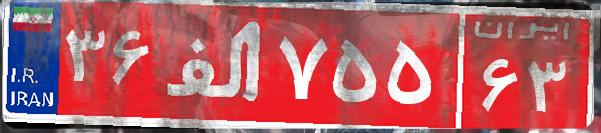3: (57, 26, 110, 107), (525, 38, 570, 115)
5: (385, 28, 445, 110), (330, 28, 385, 110)
6: (475, 38, 525, 113), (110, 28, 158, 105)
7: (273, 28, 330, 110)
الف: (158, 15, 273, 115)
